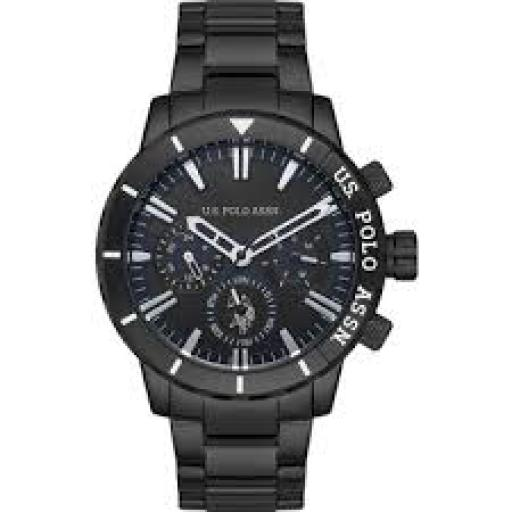KolSaati: (80, 5, 427, 512)
